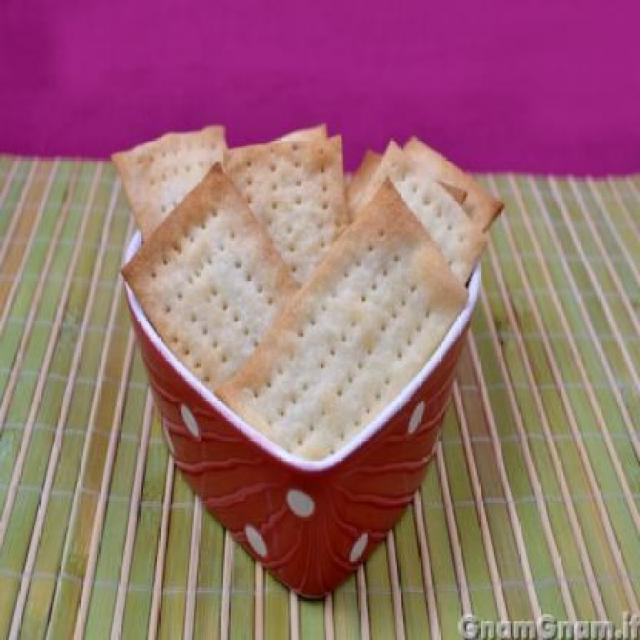Cracker packaged: (234, 180, 471, 485)
